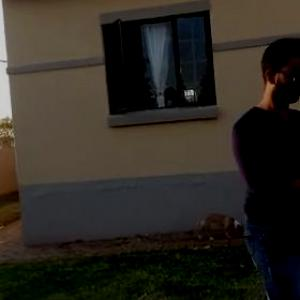follow: (226, 31, 300, 299)
null: (184, 209, 248, 244)
